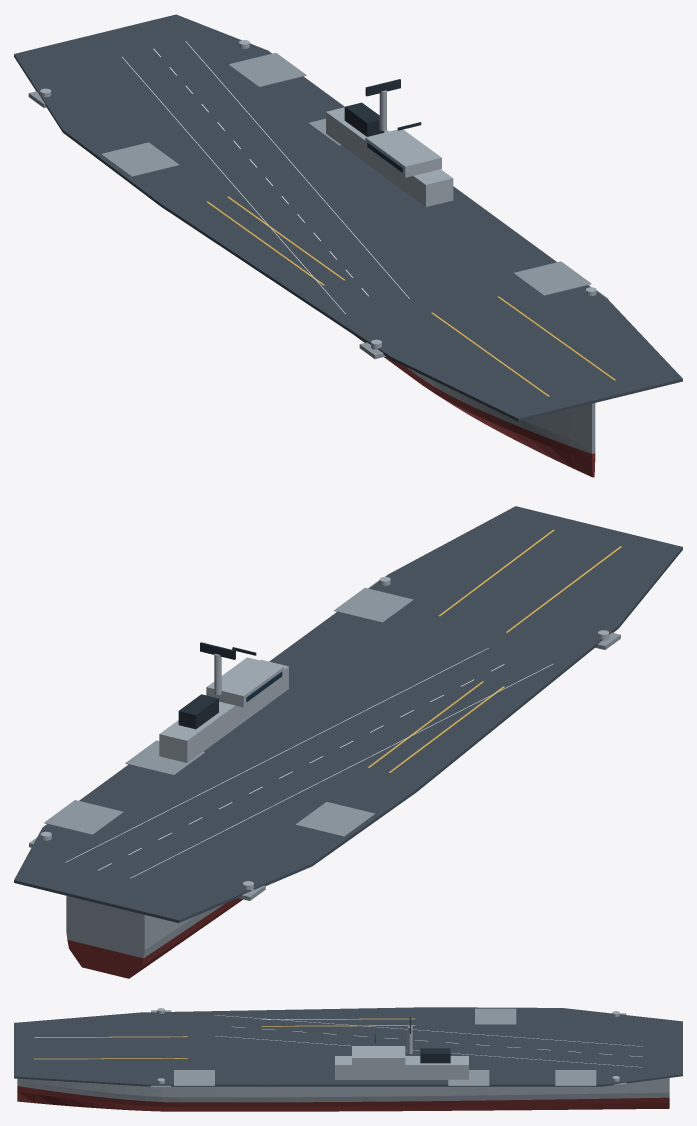
The model's file is ran_cva_australia_1963.obj.
The picture shows the model from 3 angles, top to bottom: view 1: azimuth 30°, elevation 25°; view 2: azimuth 150°, elevation 25°; view 3: azimuth 270°, elevation 25°; orthographic projection. The views are drawn at different scales.
Parts seen in each view (by area): view 1: FlightDeck, Island, Hull, UnderwaterHull, Bridge, Elevator_1, Elevator_4, Elevator_3, Funnel; view 2: FlightDeck, Hull, Island, UnderwaterHull, Bridge, Elevator_1, Elevator_3, Elevator_4, Elevator_2, Funnel; view 3: FlightDeck, Hull, UnderwaterHull, Island, Bridge, Elevator_4, Elevator_3, Elevator_1, Funnel, Elevator_2, LandingEdge_-1, LandingEdge_1 (+4 smaller).
Part boxes in pixels (x1,y1,x2,y2): FlightDeck: (14,14,682,421); Island: (326,107,453,206); Hull: (406,367,595,453); UnderwaterHull: (356,336,595,477); Bridge: (365,129,441,177); Elevator_1: (513,261,591,295); Elevator_4: (101,142,179,176); Elevator_3: (228,53,306,86); Funnel: (344,102,384,136); FlightDeck: (14,506,682,922); Hull: (66,896,223,958); Island: (159,659,288,762); UnderwaterHull: (67,898,242,978); Bridge: (206,657,284,707); Elevator_1: (333,587,413,622); Elevator_3: (44,800,123,834); Elevator_4: (295,802,374,836); Elevator_2: (125,740,204,775); Funnel: (178,694,218,729); FlightDeck: (14,1007,682,1086); Hull: (17,1078,669,1102); UnderwaterHull: (17,1086,669,1111); Island: (335,1056,468,1079); Bridge: (352,1046,405,1065); Elevator_4: (475,1008,516,1024); Elevator_3: (555,1070,596,1085); Elevator_1: (174,1070,214,1085); Funnel: (420,1048,450,1063); Elevator_2: (448,1070,489,1085); LandingEdge_-1: (215,1015,642,1046); LandingEdge_1: (215,1036,641,1067).
Bounding box in the file's own units: 1.32 × 0.8378 × 4.75.
